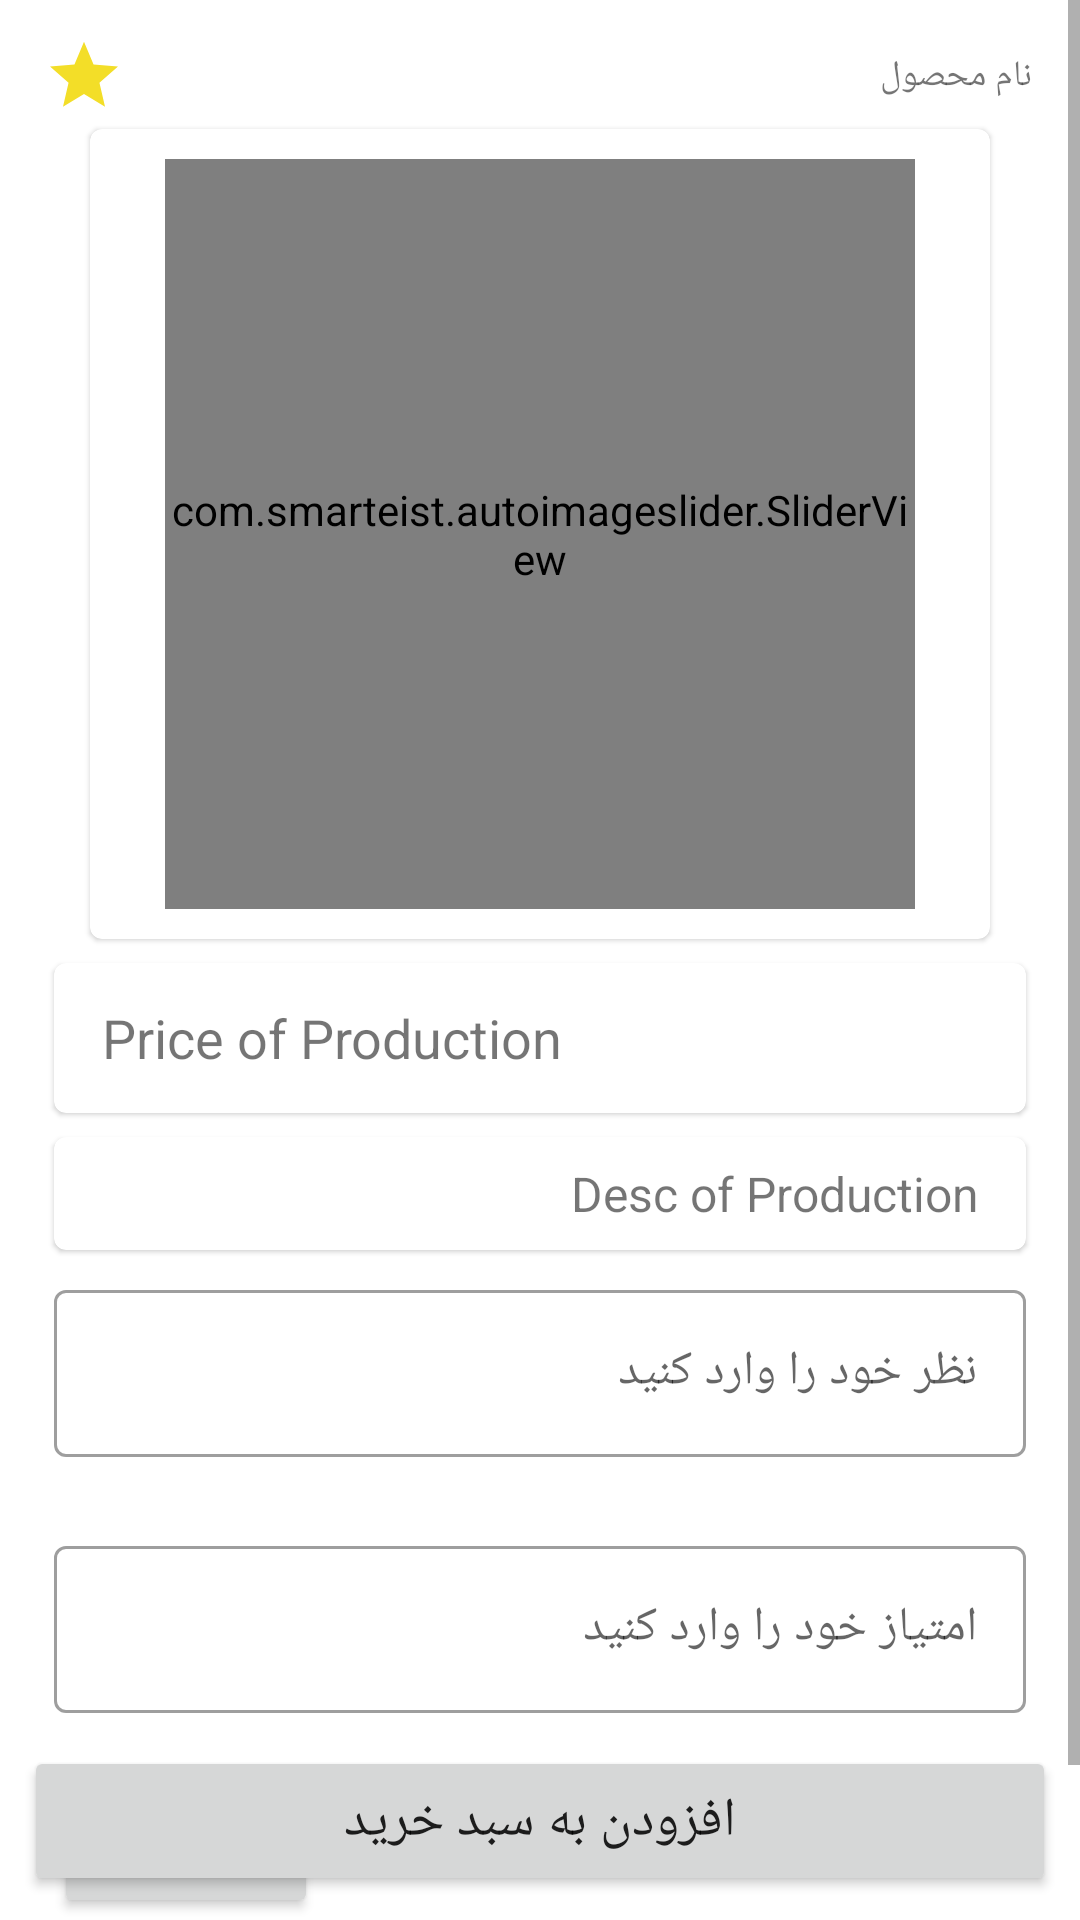

Icons on this 1080*1920 Android screen, each with the point to tap as (x,y):
star: (84,74)
